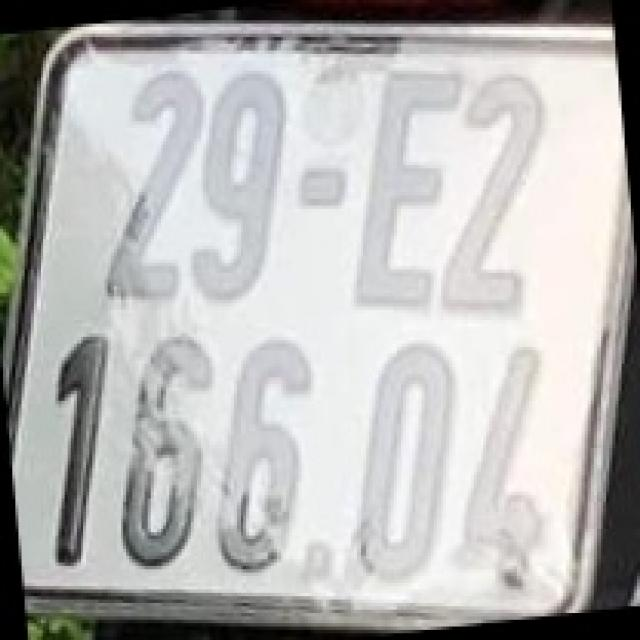0: (348, 330, 458, 586)
1: (43, 330, 114, 569)
2: (95, 64, 197, 307), (446, 67, 545, 317)
4: (461, 334, 557, 586)
6: (215, 330, 317, 576), (117, 333, 212, 572)
9: (191, 68, 286, 304)
E: (360, 68, 452, 314)
